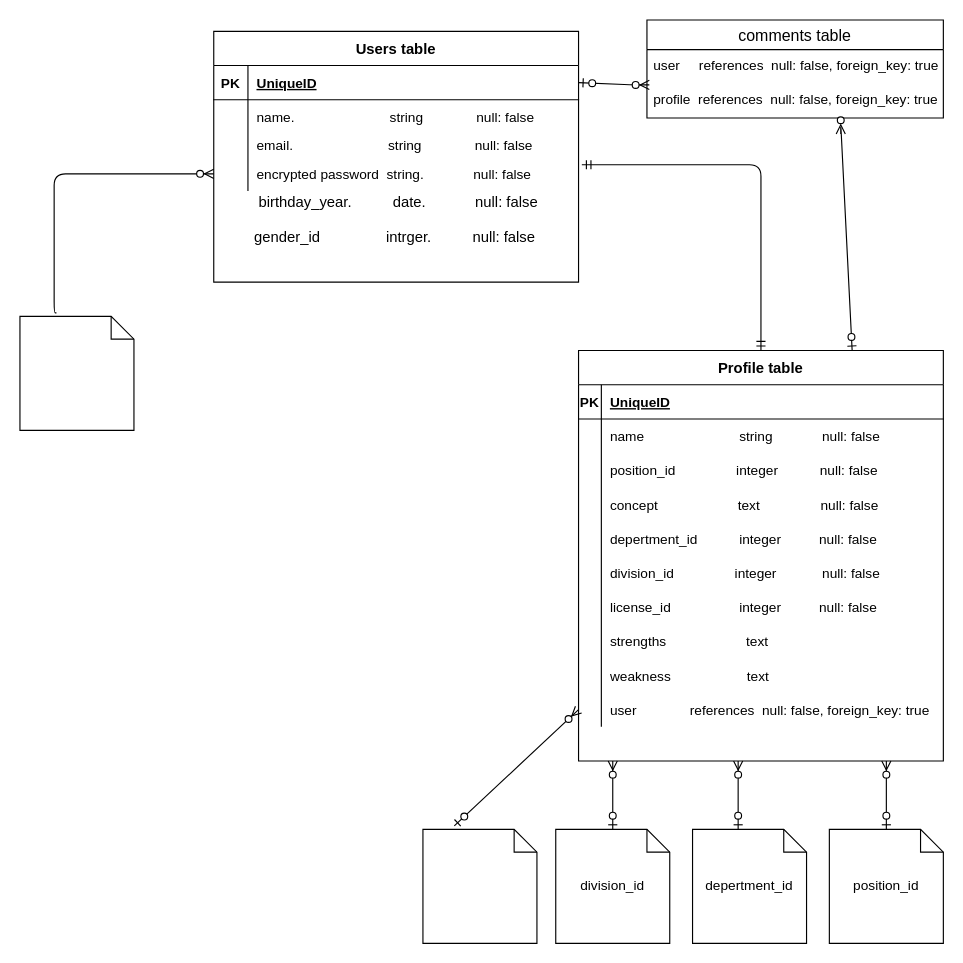
Some shapes in this 963 by 963 pixel diagram are drawn without their labels. Here are the shapes that lost their labels. From the top down, the centre of each, then its label:
At (x=76, y=372): "gender_id".
At (x=479, y=885): "section_id".
